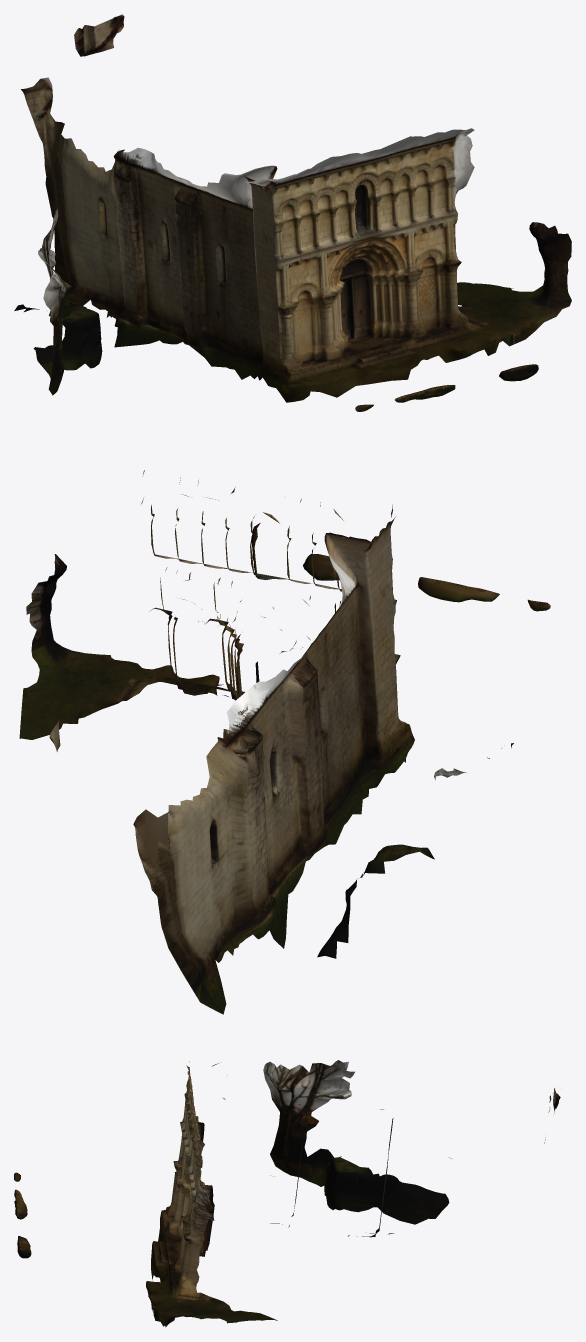
The model's file is model8_prev.glb.
3 views of the same model, one above another, from view 1: azimuth 30°, elevation 25°; view 2: azimuth 150°, elevation 25°; view 3: azimuth 270°, elevation 25° (orthographic). The views are drawn at different scales.
Size of the model in its own units: 3.9 by 2.13 by 4.74.
1 material, 1 textured.
